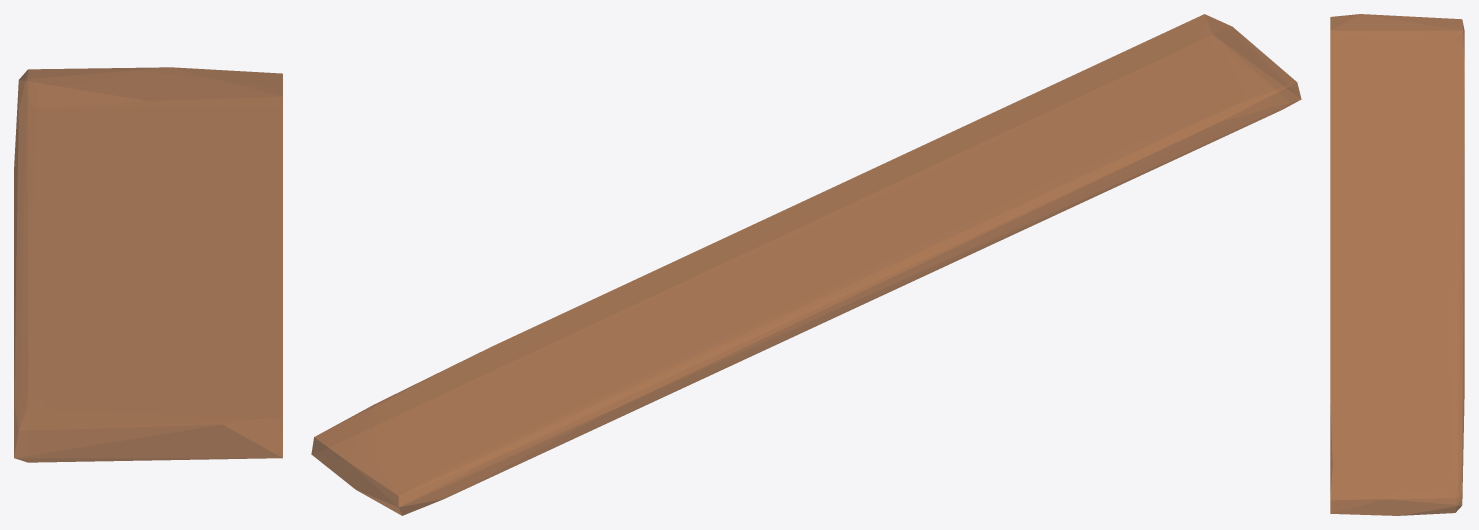
3 views of the same model, side by side, from view 1: azimuth 90°, elevation 25°; view 2: azimuth 210°, elevation 25°; view 3: azimuth 270°, elevation 25° (orthographic). The views are drawn at different scales.
Visible parts, largest first — view 1: Shape_IndexedFaceSet.005_Shape_IndexedFaceSet.1743; view 2: Shape_IndexedFaceSet.005_Shape_IndexedFaceSet.1743; view 3: Shape_IndexedFaceSet.005_Shape_IndexedFaceSet.1743.
Boxes of the visible parts, bbox=[...] form: Shape_IndexedFaceSet.005_Shape_IndexedFaceSet.1743: bbox=[14, 67, 282, 462]; Shape_IndexedFaceSet.005_Shape_IndexedFaceSet.1743: bbox=[311, 14, 1301, 515]; Shape_IndexedFaceSet.005_Shape_IndexedFaceSet.1743: bbox=[1330, 14, 1464, 515].
Size of the model in its own units: 0.1288 by 0.0308 by 0.022.
